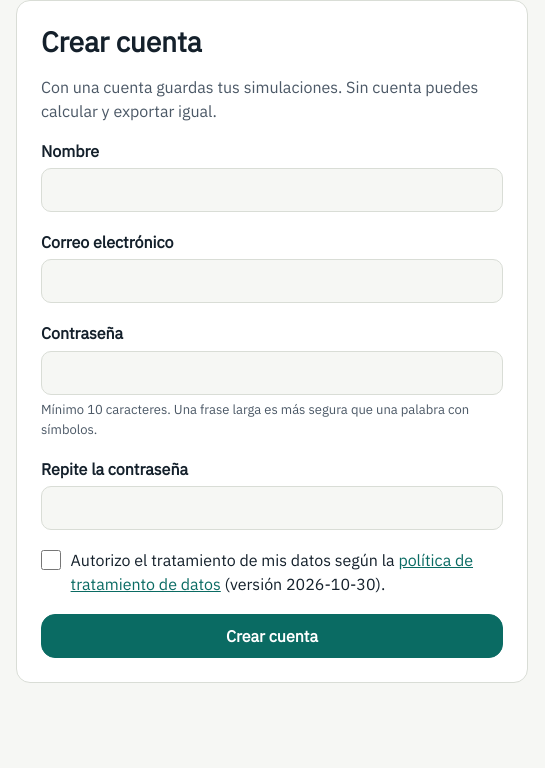
Test case: ui/Registro (HU-01) › muestra los errores de cada campo y pone el foco en el primero
The width and height of the screenshot is (545, 768).
What coordinates should you click on to do the following:
click the button "Crear cuenta"
I would click on:
 (272, 636)
Its box is [41,614,503,658].
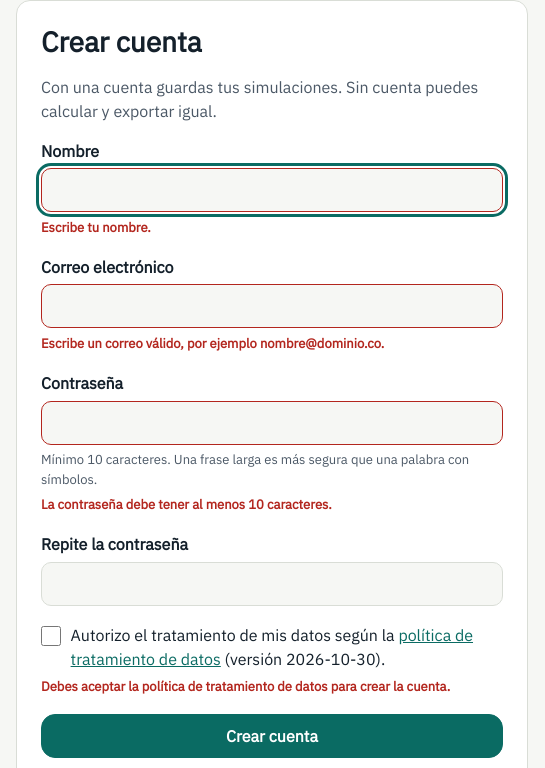
Expected: the text "Escribe tu nombre." is shown, [41,219,151,236]
Expected: the text "Escribe un correo válido, por ejemplo nombre@dominio.co." is shown, [41,335,384,352]
Expected: the text "La contraseña debe tener al menos 10 caracteres." is shown, [41,496,332,513]
